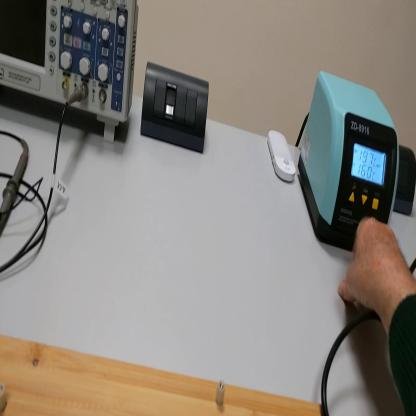hand: (340, 216, 408, 317)
oscilloscope: (2, 3, 140, 144)
oscilloscope probe tip: (2, 148, 31, 233)
socket: (394, 149, 415, 217)
working area: (2, 333, 325, 415)
